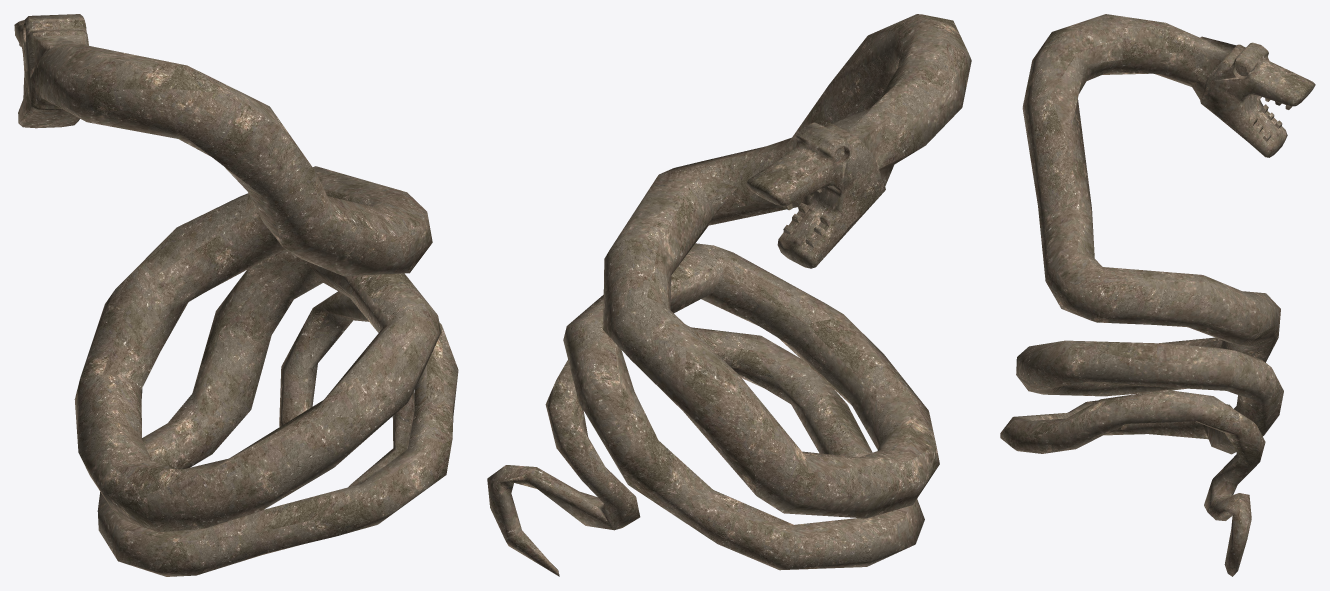
The model's file is mdl_franch_Meta_Snake.gltf.
3 views of the same model, side by side, from view 1: azimuth 30°, elevation 25°; view 2: azimuth 150°, elevation 25°; view 3: azimuth 270°, elevation 25° (orthographic). The views are drawn at different scales.
Parts seen in each view (by area): view 1: SNAKE; view 2: SNAKE; view 3: SNAKE.
Boxes of the visible parts, x1,y1,x2,y2 form: SNAKE: [14, 14, 458, 576]; SNAKE: [487, 14, 971, 576]; SNAKE: [1000, 14, 1315, 576].
Size of the model in its own units: 1.56 by 2.04 by 1.33.
1 material, 1 textured.
